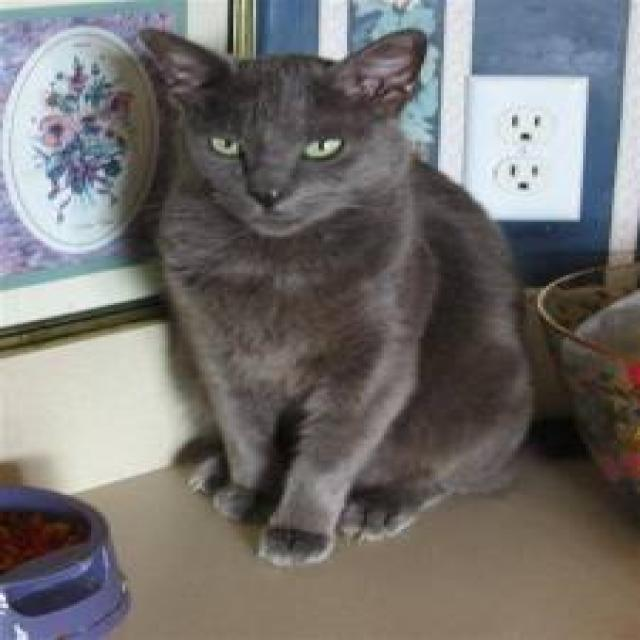Russian_Blue: (143, 18, 438, 243)
